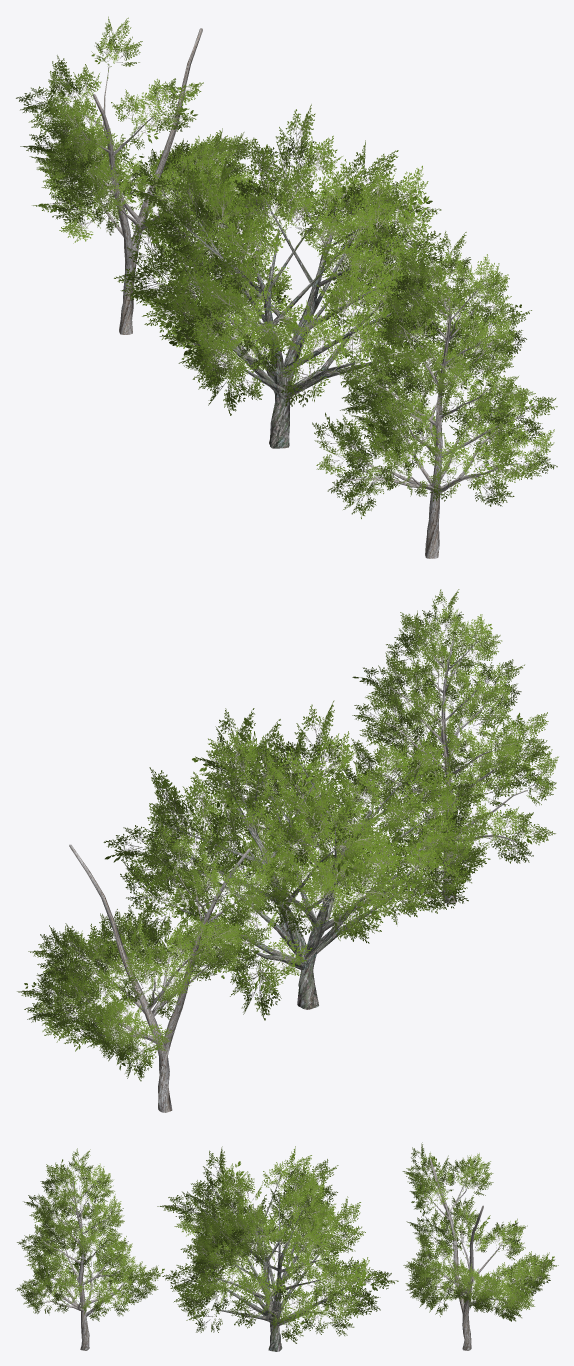
The model's file is beech.glb.
3 views of the same model, one above another, from view 1: azimuth 30°, elevation 25°; view 2: azimuth 150°, elevation 25°; view 3: azimuth 270°, elevation 25° (orthographic). The views are drawn at different scales.
Visible parts, largest first — view 1: tree.001_4, tree.003_6, tree.002_5; view 2: tree.001_4, tree.002_5, tree.003_6; view 3: tree.001_4, tree.003_6, tree.002_5.
Boxes of the visible parts, x1,y1,x2,y2 form: tree.001_4: (114, 104, 476, 448); tree.003_6: (312, 231, 557, 558); tree.002_5: (16, 16, 278, 334); tree.001_4: (103, 700, 496, 1020); tree.002_5: (17, 820, 301, 1112); tree.003_6: (337, 589, 558, 904); tree.001_4: (157, 1146, 398, 1351); tree.003_6: (15, 1148, 164, 1350); tree.002_5: (402, 1142, 558, 1350).
Bounding box in the file's own units: 52.99 × 50.57 × 128.
4 materials, 4 textured.
